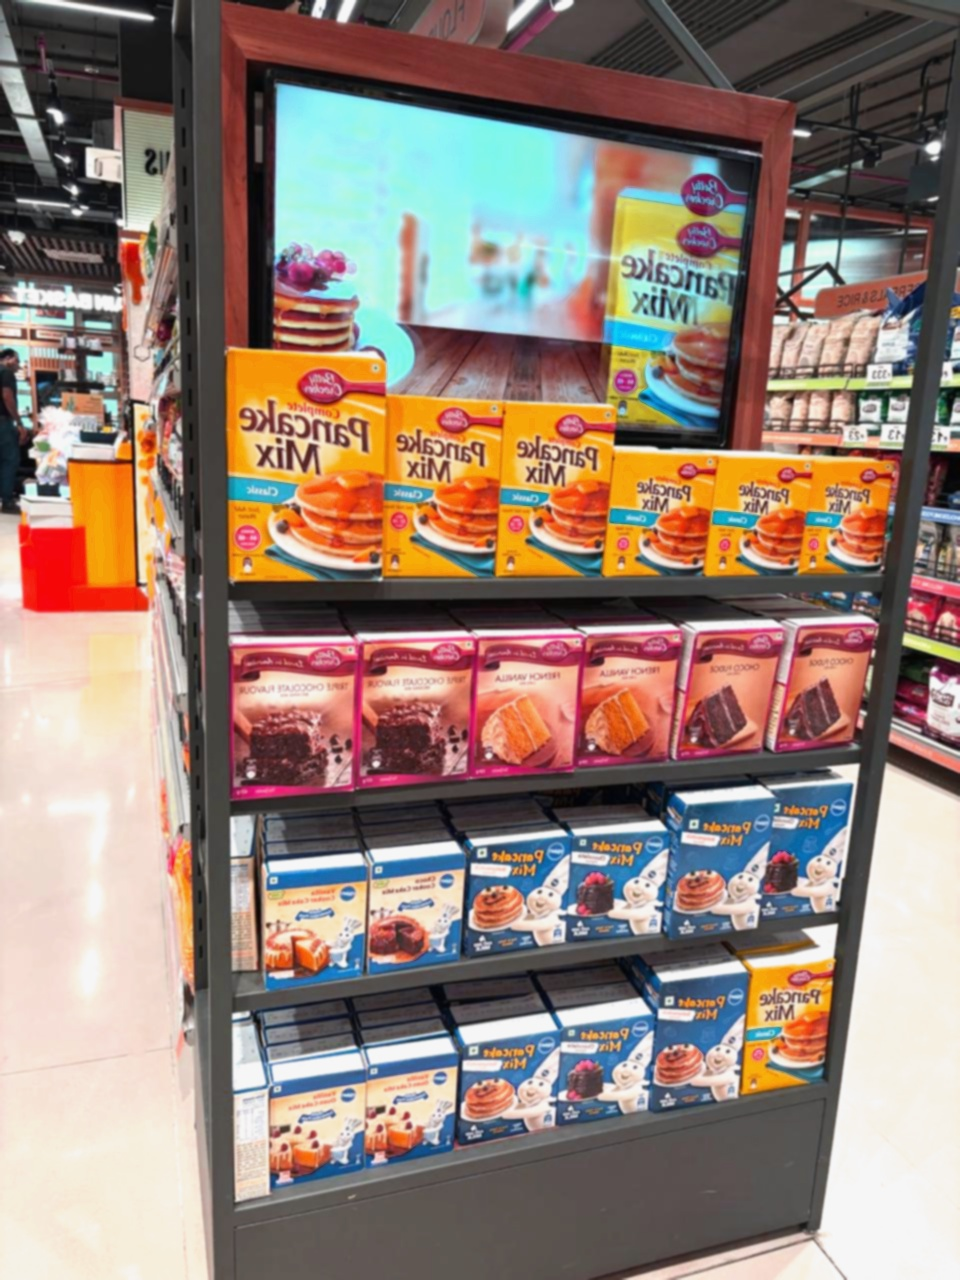Betty Crocker Pancake Mix: (214, 350, 396, 589), (596, 208, 756, 434), (376, 393, 503, 591), (487, 401, 622, 586), (735, 944, 848, 1115), (596, 445, 726, 588), (699, 438, 815, 592), (792, 452, 897, 589)
